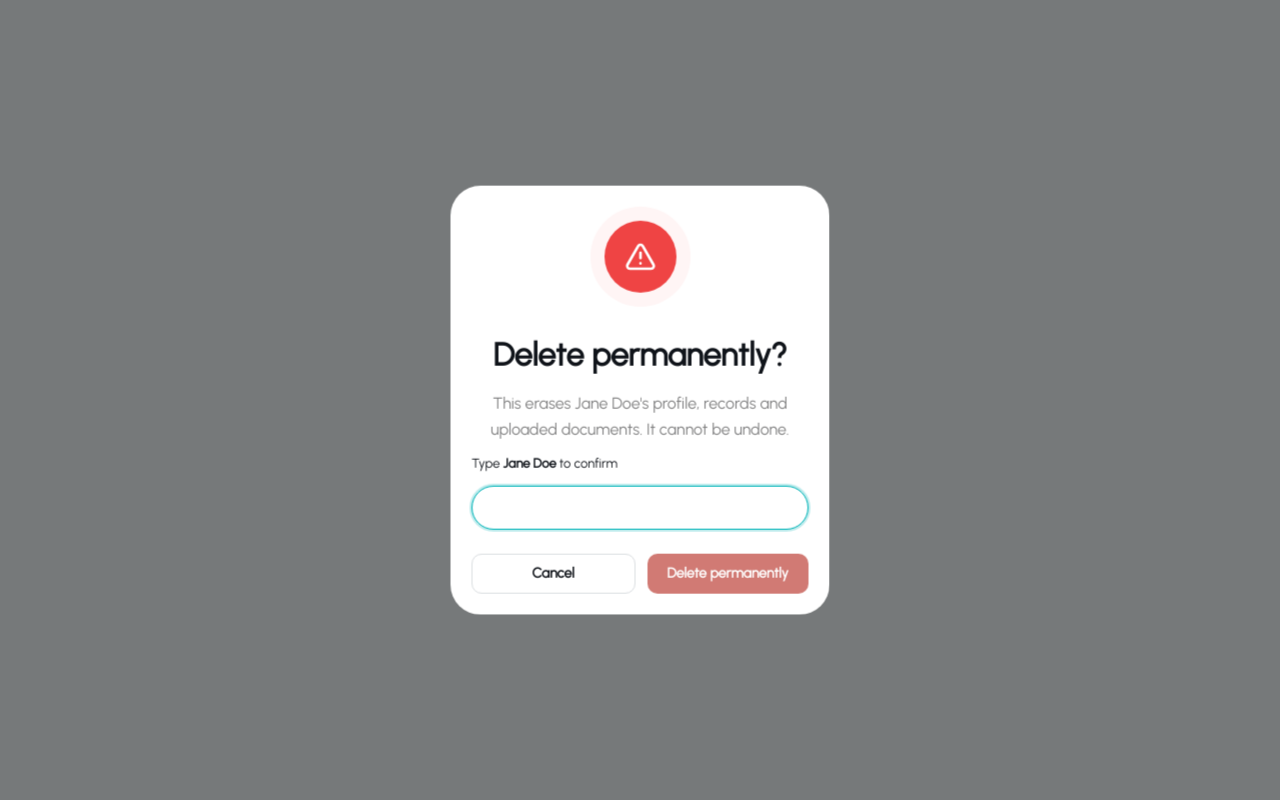
shows an error and stays open when the delete fails
In the field labelled "Type Jane Doe to confirm": (640, 507) [472, 485, 808, 529], type "Jane Doe"
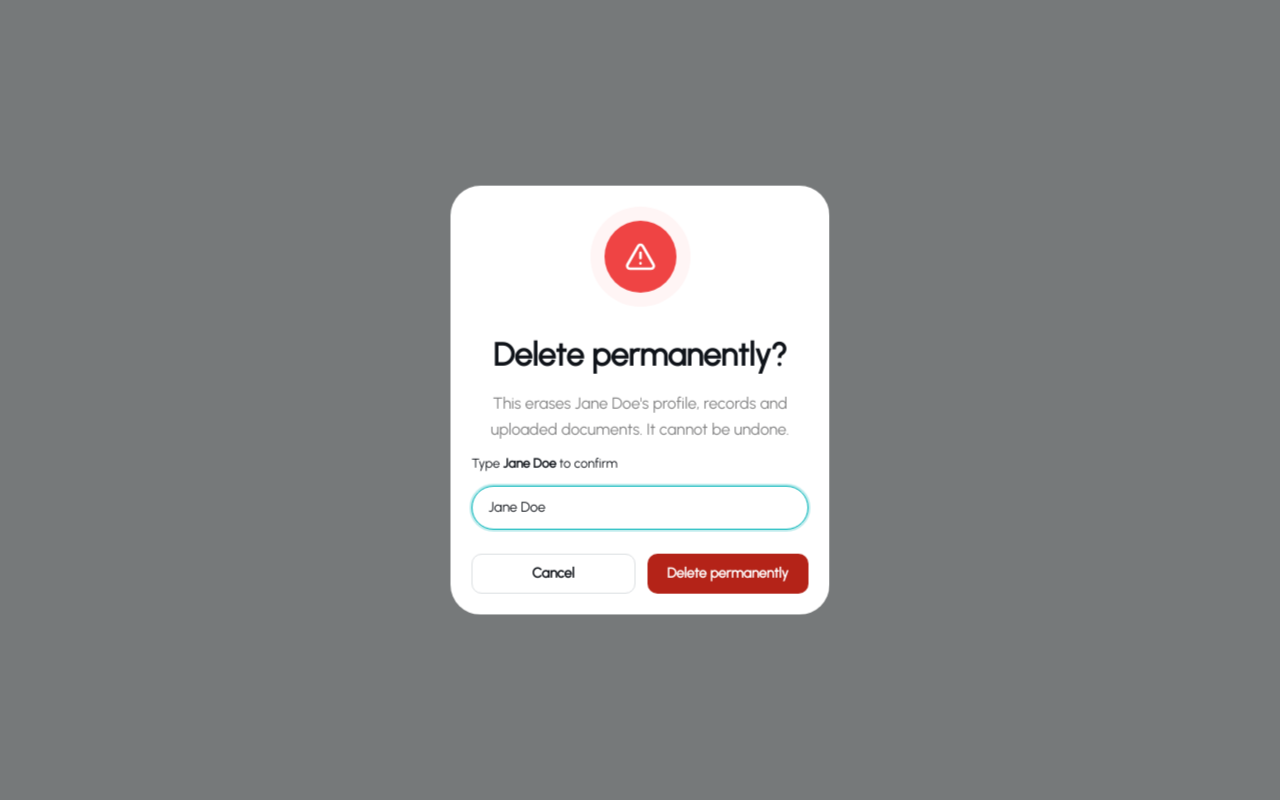
Click the button "Delete permanently": (728, 573) [647, 553, 808, 593]
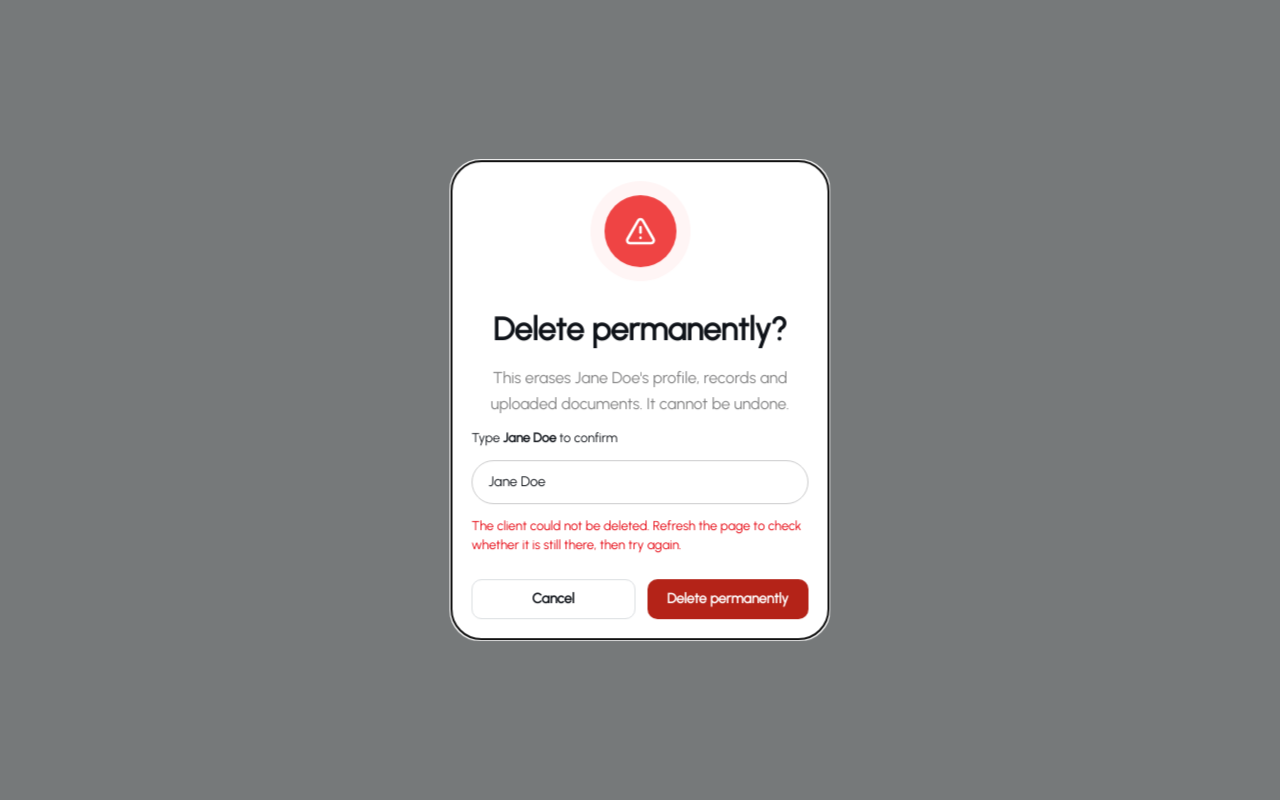
Expected: the text "could not be deleted" is shown, [472, 518, 805, 552]
